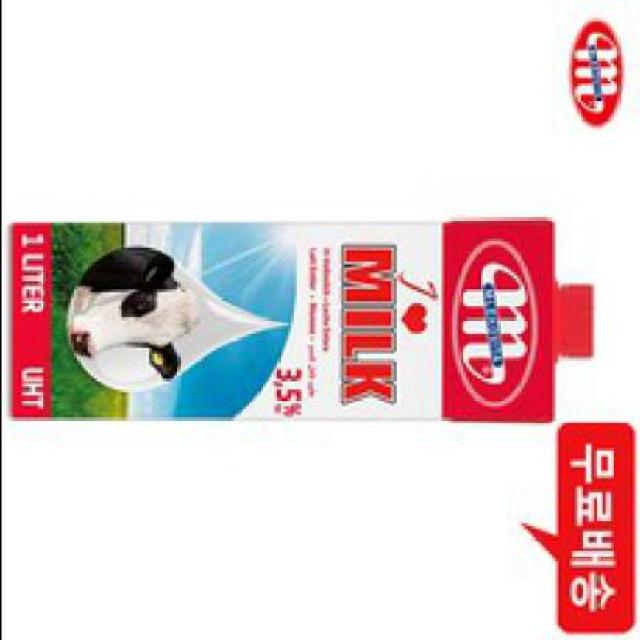tetra: (3, 198, 606, 434)
